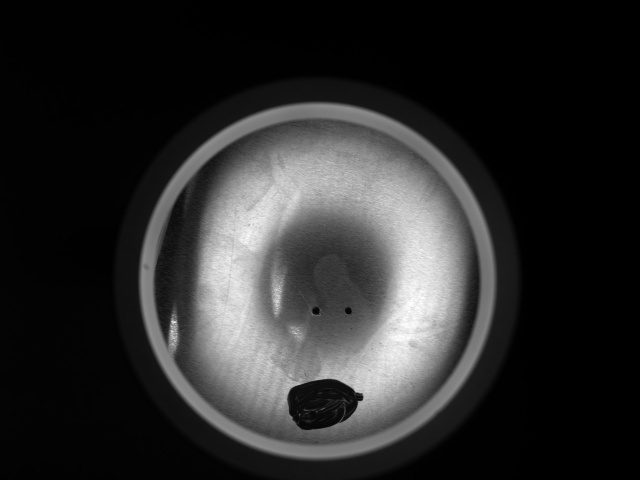zang_wu: (285, 378, 368, 432)
zhen_kong: (342, 304, 354, 315), (310, 304, 322, 314)
